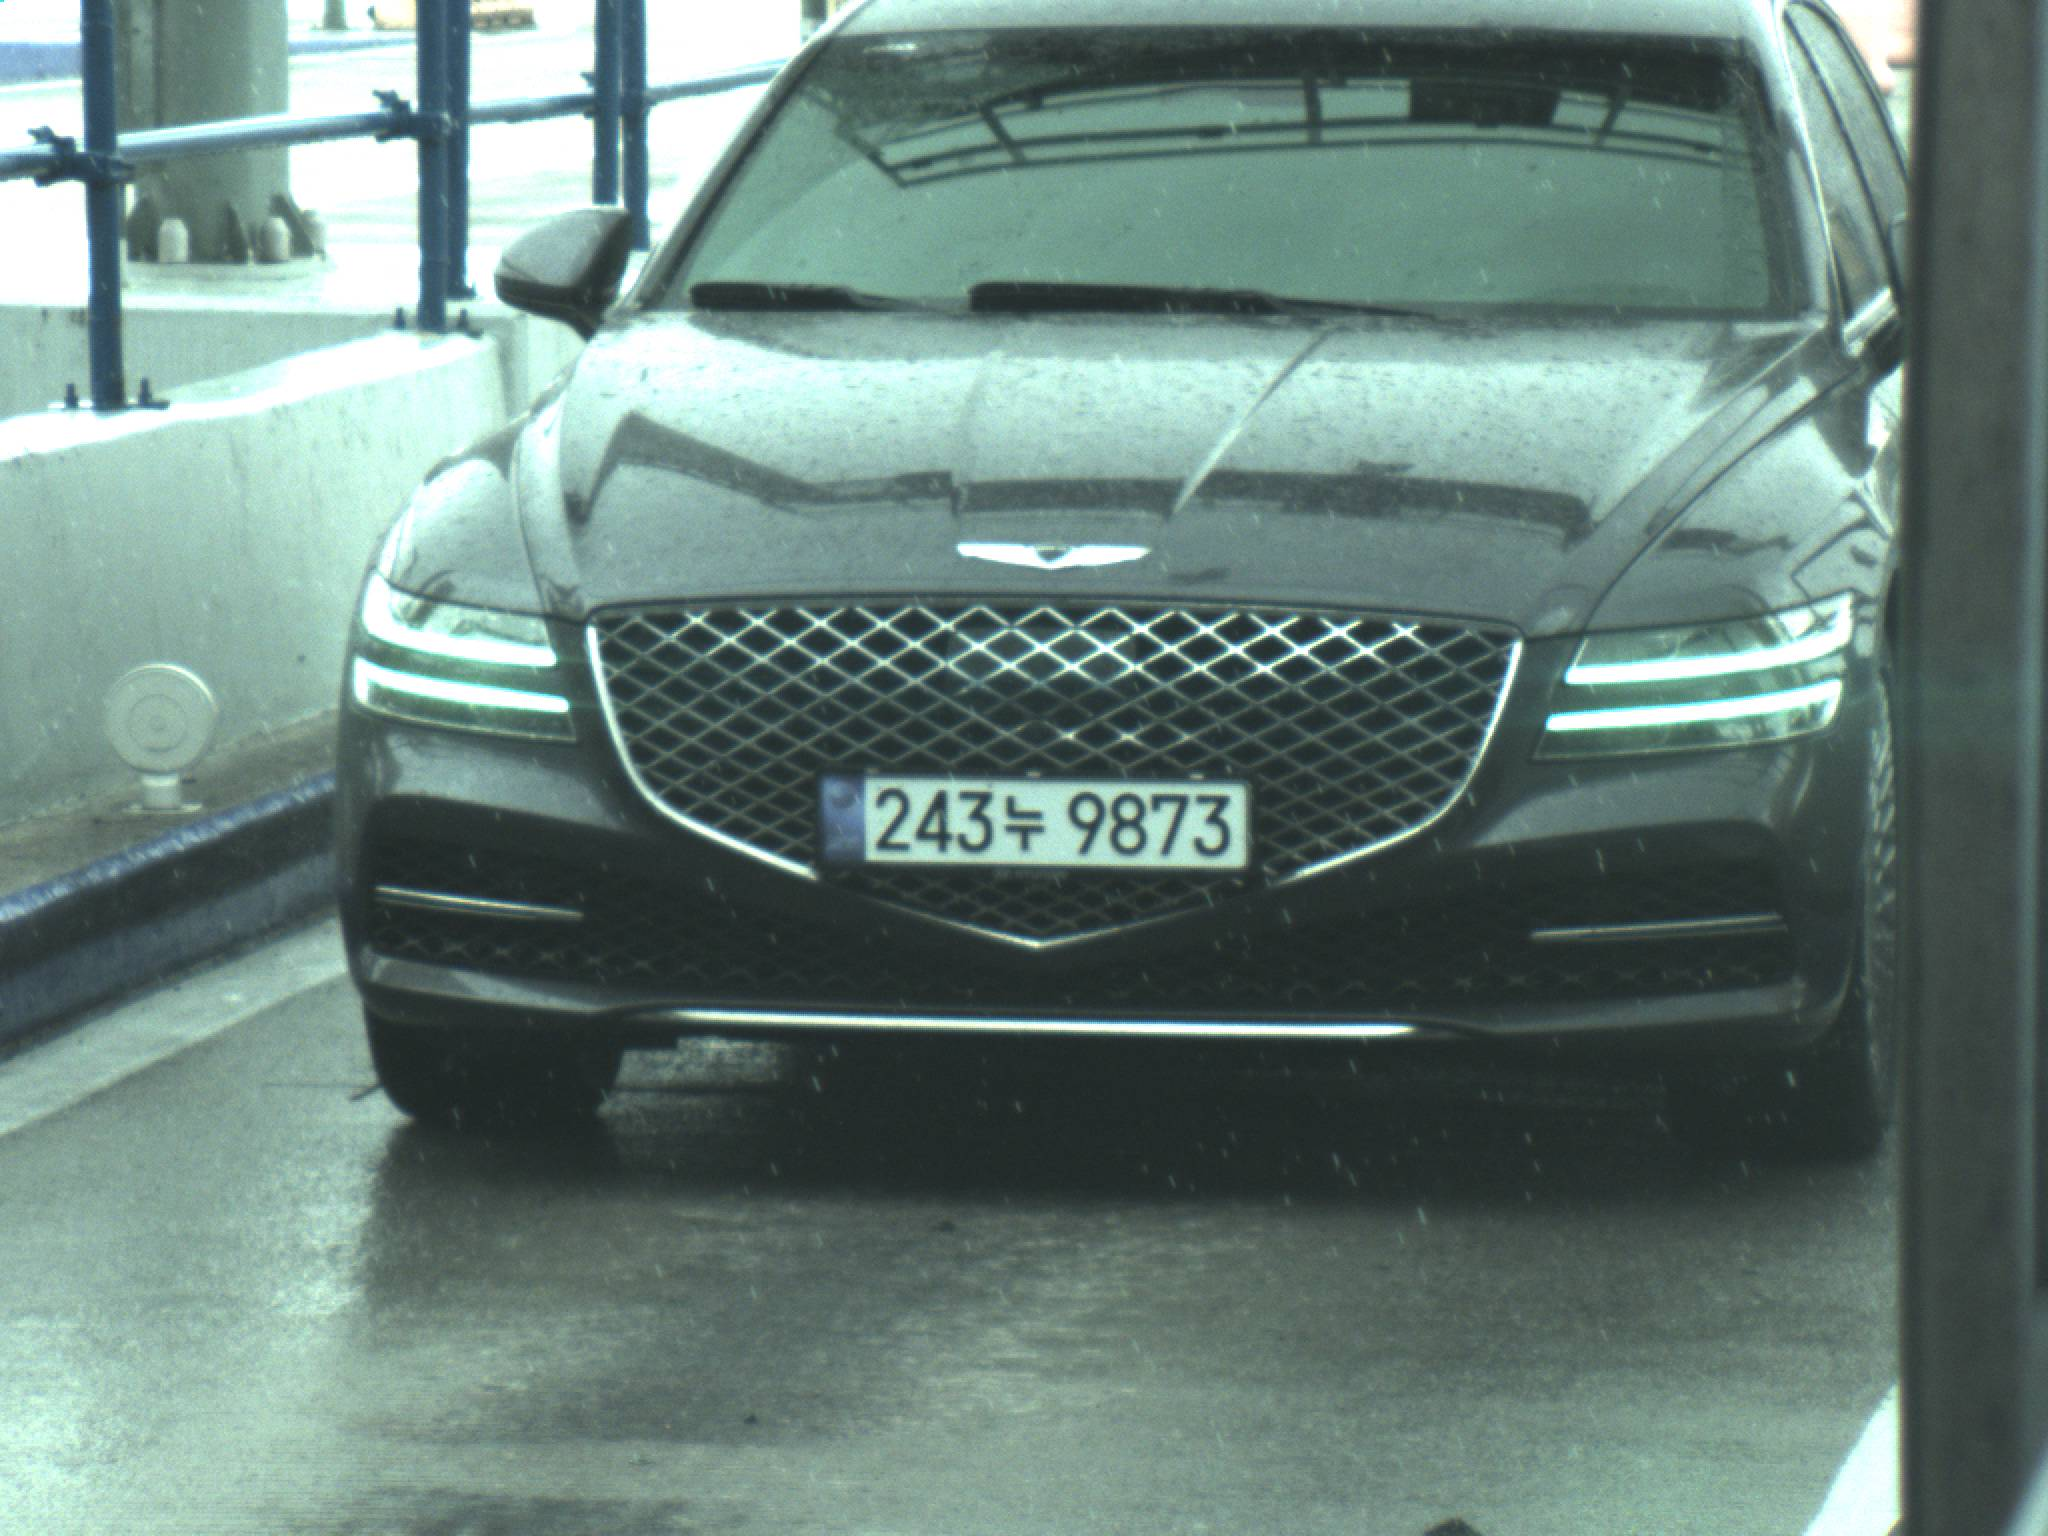car: (327, 1, 1908, 1168)
plate: (812, 770, 1253, 872)
